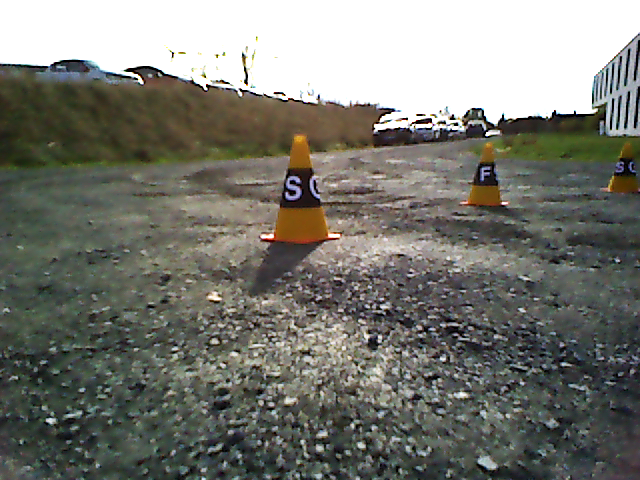yellowcone: (276, 135, 329, 237), (469, 144, 502, 203), (608, 144, 640, 192)
